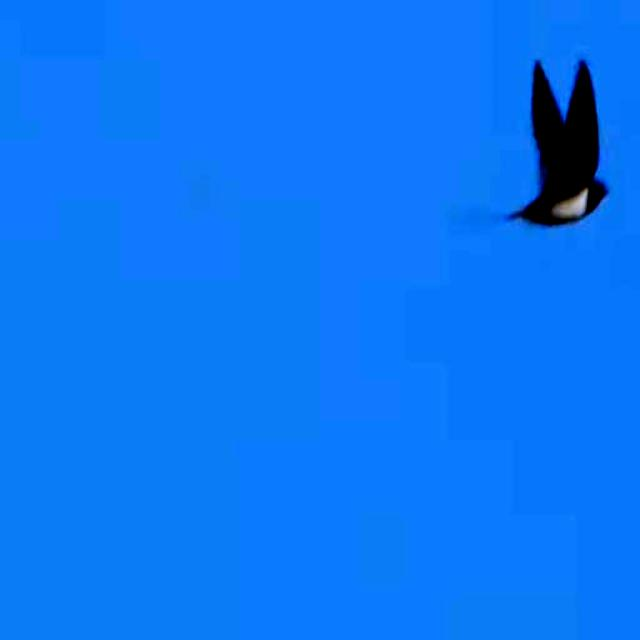airplane: (480, 58, 611, 248)
